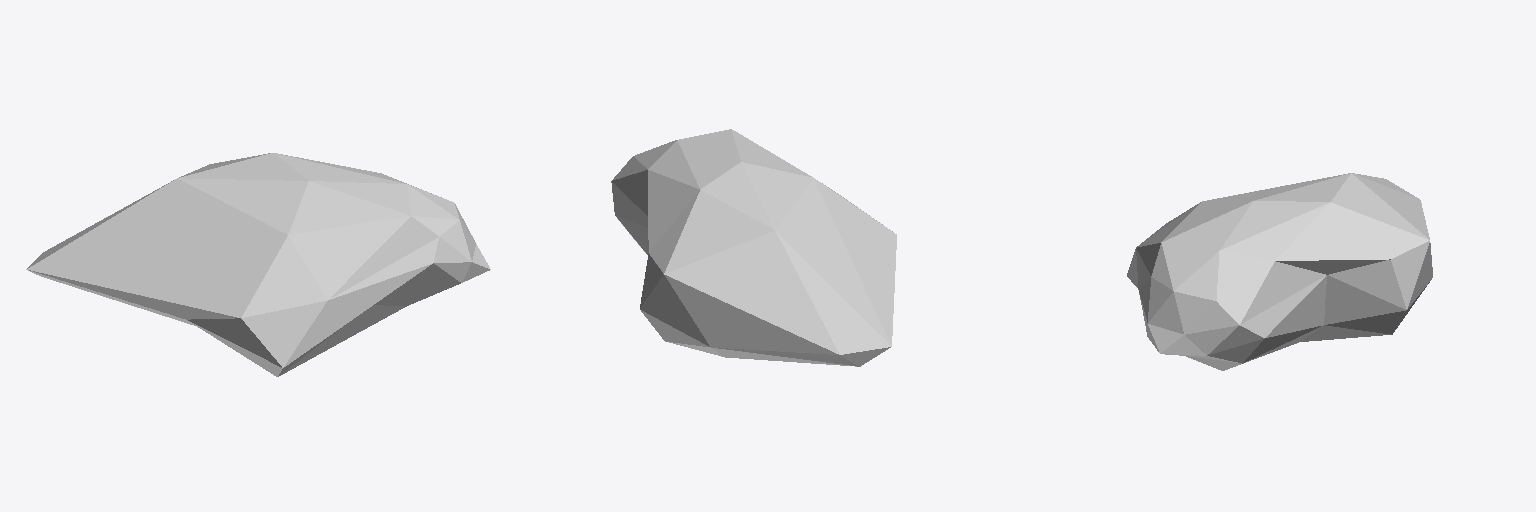
Rendered from cloud.obj.
3 renders of one model, left to right at view 1: azimuth 30°, elevation 25°; view 2: azimuth 150°, elevation 25°; view 3: azimuth 270°, elevation 25°, orthographic.
Visible parts, largest first — view 1: cloud2_Icosphere.042; view 2: cloud2_Icosphere.042; view 3: cloud2_Icosphere.042.
Boxes of the visible parts, box(x1,y1,x2,y2) form: cloud2_Icosphere.042: box(26, 153, 490, 376); cloud2_Icosphere.042: box(611, 129, 896, 366); cloud2_Icosphere.042: box(1127, 173, 1432, 370).
Size of the model in its own units: 6.32 by 2.56 by 4.75.